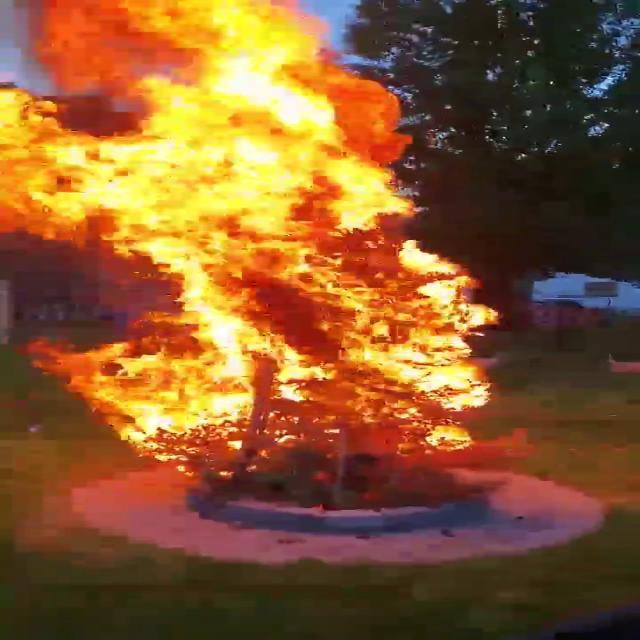Fire: (1, 0, 515, 468)
